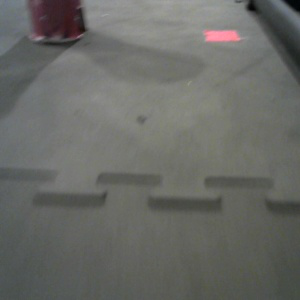Middle: (28, 1, 86, 43)
